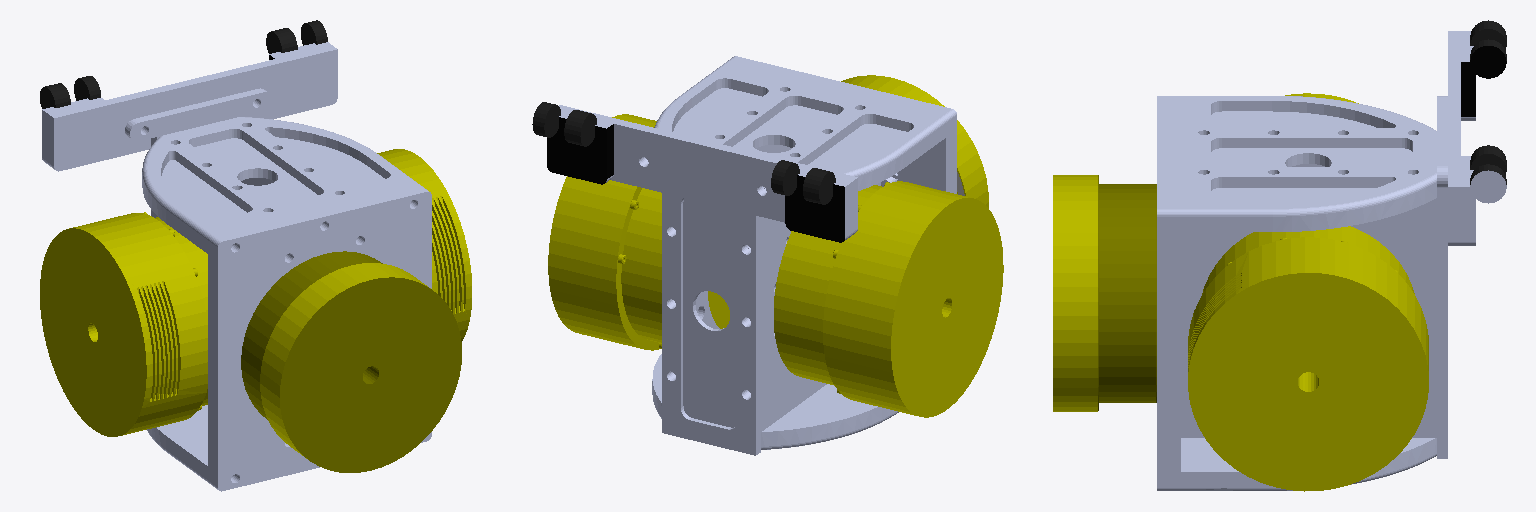
The robot description file, URDF, robot "Krang":
<?xml version="1.0" ?>
<!-- @file Krang.urdf -->
<!-- @author [author] -->
<!-- @date May 10, 2013 -->
<!-- @brief This file contains the .urdf definition for Krang. -->
<!-- NOTE: The center of mass locations are taken from the MassTable by summing up the -->
<!-- individual part values for the sections (which correspond to nodes here). -->
<!-- TODO: Set the center of mass locations -->
<!-- TODO: Set the correct masses. Note that the dae models have the brackets divided in two and -->
<!-- connected to the middle motor for which we do not have measurements. -->
<!-- NOTE: The bounding box values are taken by finding the min and max values of the dae files. -->

<robot name="Krang">

	<!-- Links -->

	<link name = "LWheel"> 
    <inertial>
      <mass value="4.66"/>
      <inertia ixx="0.102019" ixy="2.45462e-05" ixz="0.00713022" iyy="0.0832724" iyz="-0.00131733" izz="0.086493"/>
      <origin xyz="0 0 0"/>
    </inertial>
		<visual> <origin xyz="0 0 -0.026"/> <geometry> <mesh filename="../model/wheel.dae"/> </geometry> </visual>
		<collision> <origin xyz="-0.002 0 0" rpy="0 1.5708 0"/> <geometry> <cylinder length="0.077" radius="0.268"/> </geometry> </collision> 
	</link>

	<link name = "RWheel"> 
    <inertial>
      <mass value="4.66"/>
      <inertia ixx="0.102019" ixy="2.45462e-05" ixz="0.00713022" iyy="0.0832724" iyz="-0.00131733" izz="0.086493"/>
      <origin xyz="0 0 0"/>
    </inertial>
		<visual> <origin xyz="0 0 -0.026"/> <geometry> <mesh filename="../model/wheel.dae"/> </geometry> </visual>
		<collision> <origin xyz="-0.002 0 0" rpy="0 1.5708 0"/> <geometry> <cylinder length="0.077" radius="0.268"/> </geometry> </collision> 
	</link>

	<link name = "Base"> 
    <inertial>
      <mass value="81.856"/>
      <inertia ixx="0.102019" ixy="2.45462e-05" ixz="0.00713022" iyy="0.0832724" iyz="-0.00131733" izz="0.086493"/>
      <origin xyz="-0.00336451 0.107572 -0.00636184"/>
    </inertial>
		<visual> <geometry> <mesh filename="base.dae" /> </geometry> </visual> 
		<collision> <origin xyz="0.0 0.183 0.0063"/> <geometry> <box size="0.620 0.66 0.329"/> </geometry> </collision> 
	</link>

	<link name = "Spine"> 
    <inertial>
      <mass value="10.302"/>
      <inertia ixx="0.102019" ixy="2.45462e-05" ixz="0.00713022" iyy="0.0832724" iyz="-0.00131733" izz="0.086493"/>
			<!-- an offset of -0.02937 is added due to bad dae file and to align with base com -->
      <origin xyz="-0.02937 0.285314 0.0974926"/>
    </inertial>
		<visual> <geometry> <mesh filename="spine.dae" /> </geometry> </visual> 
		<collision> <origin xyz="-0.028 0.230 0.108"/> <geometry> <box size="0.134 0.60 0.133"/> </geometry> </collision> 
		<collision> <origin xyz="-0.026 0.012 0"/> <geometry> <box size="0.435 0.16 0.135"/> </geometry> </collision> 
	</link>

	<link name = "Bracket"> 
    <inertial>
      <mass value="10.17"/>
      <inertia ixx="0.102019" ixy="2.45462e-05" ixz="0.00713022" iyy="0.0832724" iyz="-0.00131733" izz="0.086493"/>
			<!-- offseted with 0.0827 because the origin of the bracket is at the bottom -->
      <origin xyz="0 0.080606 -0.00314267"/>
    </inertial>
		<visual> <geometry> <mesh filename="bracket.dae" /> </geometry> </visual> 
		<collision> <origin xyz="0.0012875 0.0582 -0.0280530"/> <geometry> <box size="0.2815 0.23 0.22611"/> </geometry> </collision> 
	</link>

	<link name = "Kinect"> 
    <inertial>
      <mass value="0.705"/>
      <inertia ixx="0.102019" ixy="2.45462e-05" ixz="0.00713022" iyy="0.0832724" iyz="-0.00131733" izz="0.086493"/>
      <origin xyz="0.0 -0.04 -0.028"/>
    </inertial>
		<visual> <geometry> <mesh filename="kinect.dae" /> </geometry> </visual> 
		<collision> <origin xyz="0.0 -0.0251 -0.0185"/> <geometry> <box size="0.28 0.07 0.063"/> </geometry> </collision> 
	</link>

	<link name = "L1"> 
    <inertial>
      <mass value="3.836"/>
      <inertia ixx="0.102019" ixy="2.45462e-05" ixz="0.00713022" iyy="0.0832724" iyz="-0.00131733" izz="0.086493"/>
      <origin xyz="0.0063626 -0.00725706 0"/>
    </inertial>
		<visual> <geometry> <mesh filename="Schunk/L1.dae" /> </geometry> </visual> 
		<collision> <origin xyz="0.015 -0.080866 0.0"/> <geometry> <box size="0.16 0.29367 0.13188"/> </geometry> </collision> 
	</link>

	<link name = "L2"> 
    <inertial>
      <mass value="2.385"/>
      <inertia ixx="0.102019" ixy="2.45462e-05" ixz="0.00713022" iyy="0.0832724" iyz="-0.00131733" izz="0.086493"/>
      <origin xyz="0.0101136 -0.15332 0"/>
    </inertial>
		<visual> <geometry> <mesh filename="Schunk/L2.dae" /> </geometry> </visual> 
		<collision> <origin xyz="0.017042 -0.058309 0.0"/> <geometry> <box size="0.14591 0.24658 0.13"/> </geometry> </collision> 
	</link>

	<link name = "L3"> 
    <inertial>
      <mass value="2.306"/>
      <inertia ixx="0.102019" ixy="2.45462e-05" ixz="0.00713022" iyy="0.0832724" iyz="-0.00131733" izz="0.086493"/>
      <origin xyz="0.0071222 -0.00803823 0"/>
    </inertial>
		<visual> <geometry> <mesh filename="Schunk/L3.dae" /> </geometry> </visual> 
		<collision> <origin xyz="0.014000 -0.075113 0.0"/> <geometry> <box size="0.13800 0.26217 0.11189"/> </geometry> </collision> 
	</link>

	<link name = "L4"> 
    <inertial>
      <mass value="1.477"/>
      <inertia ixx="0.102019" ixy="2.45462e-05" ixz="0.00713022" iyy="0.0832724" iyz="-0.00131733" izz="0.086493"/>
      <origin xyz="0.0115211 -0.1255 0"/>
    </inertial>
		<visual> <geometry> <mesh filename="Schunk/L4.dae" /> </geometry> </visual> 
		<collision> <origin xyz="0.018200 -0.052050 0.0"/> <geometry> <box size="0.12960 0.2141 0.11"/> </geometry> </collision> 
	</link>

	<link name = "L5"> 
    <inertial>
      <mass value="1.369"/>
      <inertia ixx="0.102019" ixy="2.45462e-05" ixz="0.00713022" iyy="0.0832724" iyz="-0.00131733" izz="0.086493"/>
      <origin xyz="0.00705037 -0.00747172 0"/>
    </inertial>
		<visual> <geometry> <mesh filename="Schunk/L5.dae" /> </geometry> </visual> 
		<collision> <origin xyz="0.0145115 -0.0571105 0.0000425"/> <geometry> <box size="0.117977 0.204179 0.089915"/> </geometry> </collision> 
	</link>

	<link name = "L6"> 
    <inertial>
      <mass value="1.47"/>
      <inertia ixx="0.102019" ixy="2.45462e-05" ixz="0.00713022" iyy="0.0832724" iyz="-0.00131733" izz="0.086493"/>
      <origin xyz="0.0105523 -0.117163 0"/>
    </inertial>
		<visual> <geometry> <mesh filename="Schunk/L6.dae" /> </geometry> </visual> 
		<collision> <origin xyz="0.0175015 -0.0481615 0.0"/> <geometry> <box size="0.111977 0.185277 0.089"/> </geometry> </collision> 
	</link>

	<link name = "lGripper"> 
    <inertial>
      <mass value="2.3"/>
      <inertia ixx="0.102019" ixy="2.45462e-05" ixz="0.00713022" iyy="0.0832724" iyz="-0.00131733" izz="0.086493"/>
			<!-- An addition of 4.05 cms from the end of Schunk gripper to space between two halves of ft -->
      <origin xyz="0 0 0.1055"/>
    </inertial>
		<visual> <geometry> <mesh filename="Schunk/L7.dae" /> </geometry> </visual> 
		<collision> <origin xyz="0.0 -0.0 0.02615" rpy="0.0 0.0 1.5708"/> <geometry> <box size="0.08 0.112 0.2025"/> </geometry> </collision> 
	</link>

	<link name = "lFingerA">
    <inertial> 
			<mass value="0.0001"/> 
			<inertia ixx="1e-4" ixy="1e-4" ixz="1e-4" iyy="1e-4" iyz="1e-4" izz="1e-4"/>
		</inertial>
		<visual> <geometry> <mesh filename="Schunk/finger.dae" /> </geometry> </visual>
	</link> 	

	<link name = "lFingerB">
    <inertial> 
			<mass value="0.0001"/> 
			<inertia ixx="1e-4" ixy="1e-4" ixz="1e-4" iyy="1e-4" iyz="1e-4" izz="1e-4"/>
		</inertial>
		<visual> <geometry> <mesh filename="Schunk/finger.dae" /> </geometry> </visual>
	</link> 	

	<link name = "lFingerC">
    <inertial> 
			<mass value="0.0001"/> 
			<inertia ixx="1e-4" ixy="1e-4" ixz="1e-4" iyy="1e-4" iyz="1e-4" izz="1e-4"/>
		</inertial>
		<visual> <geometry> <mesh filename="Schunk/finger.dae" /> </geometry> </visual>
	</link> 	

	<link name = "R1"> 
    <inertial>
      <mass value="3.836"/>
      <inertia ixx="0.102019" ixy="2.45462e-05" ixz="0.00713022" iyy="0.0832724" iyz="-0.00131733" izz="0.086493"/>
      <origin xyz="0.0063626 -0.00725706 0"/>
    </inertial>
		<visual> <geometry> <mesh filename="Schunk/L1.dae" /> </geometry> </visual> 
		<collision> <origin xyz="0.015 -0.080866 0.0"/> <geometry> <box size="0.16 0.29367 0.13188"/> </geometry> </collision> 
	</link>

	<link name = "R2"> 
    <inertial>
      <mass value="2.385"/>
      <inertia ixx="0.102019" ixy="2.45462e-05" ixz="0.00713022" iyy="0.0832724" iyz="-0.00131733" izz="0.086493"/>
      <origin xyz="0.0101136 -0.15332 0"/>
    </inertial>
		<visual> <geometry> <mesh filename="Schunk/L2.dae" /> </geometry> </visual> 
		<collision> <origin xyz="0.017042 -0.058309 0.0"/> <geometry> <box size="0.14591 0.24658 0.13"/> </geometry> </collision> 
	</link>

	<link name = "R3"> 
    <inertial>
      <mass value="2.306"/>
      <inertia ixx="0.102019" ixy="2.45462e-05" ixz="0.00713022" iyy="0.0832724" iyz="-0.00131733" izz="0.086493"/>
      <origin xyz="0.0071222 -0.00803823 0"/>
    </inertial>
		<visual> <geometry> <mesh filename="Schunk/L3.dae" /> </geometry> </visual> 
		<collision> <origin xyz="0.014000 -0.075113 0.0"/> <geometry> <box size="0.13800 0.26217 0.11189"/> </geometry> </collision> 
	</link>

	<link name = "R4"> 
    <inertial>
      <mass value="1.477"/>
      <inertia ixx="0.102019" ixy="2.45462e-05" ixz="0.00713022" iyy="0.0832724" iyz="-0.00131733" izz="0.086493"/>
      <origin xyz="0.0115211 -0.1255 0"/>
    </inertial>
		<visual> <geometry> <mesh filename="Schunk/L4.dae" /> </geometry> </visual> 
		<collision> <origin xyz="0.018200 -0.052050 0.0"/> <geometry> <box size="0.12960 0.2141 0.11"/> </geometry> </collision> 
	</link>

	<link name = "R5"> 
    <inertial>
      <mass value="1.369"/>
      <inertia ixx="0.102019" ixy="2.45462e-05" ixz="0.00713022" iyy="0.0832724" iyz="-0.00131733" izz="0.086493"/>
      <origin xyz="0.00705037 -0.00747172 0"/>
    </inertial>
		<visual> <geometry> <mesh filename="Schunk/L5.dae" /> </geometry> </visual> 
		<collision> <origin xyz="0.0145115 -0.0571105 0.0000425"/> <geometry> <box size="0.117977 0.204179 0.089915"/> </geometry> </collision> 
	</link>

	<link name = "R6"> 
    <inertial>
      <mass value="1.47"/>
      <inertia ixx="0.102019" ixy="2.45462e-05" ixz="0.00713022" iyy="0.0832724" iyz="-0.00131733" izz="0.086493"/>
      <origin xyz="0.0105523 -0.117163 0"/>
    </inertial>
		<visual> <geometry> <mesh filename="Schunk/L6.dae" /> </geometry> </visual> 
		<collision> <origin xyz="0.0175015 -0.0481615 0.0"/> <geometry> <box size="0.111977 0.185277 0.089"/> </geometry> </collision> 
	</link>

	<link name = "rGripper"> 
    <inertial>
      <mass value="2.3"/>
      <inertia ixx="0.102019" ixy="2.45462e-05" ixz="0.00713022" iyy="0.0832724" iyz="-0.00131733" izz="0.086493"/>
			<!-- An addition of 4.05 cms from the end of Schunk gripper to space between two halves of ft -->
      <origin xyz="0 0 0.1055"/>
    </inertial>
		<visual> <geometry> <mesh filename="Schunk/L7.dae" /> </geometry> </visual> 
		<collision> <origin xyz="0.0 -0.0 0.02615" rpy="0.0 0.0 1.5708"/> <geometry> <box size="0.08 0.112 0.2025"/> </geometry> </collision> 
	</link>

	<link name = "rFingerA">
    <inertial> 
			<mass value="0.0001"/> 
			<inertia ixx="1e-4" ixy="1e-4" ixz="1e-4" iyy="1e-4" iyz="1e-4" izz="1e-4"/>
		</inertial>
		<visual> <geometry> <mesh filename="Schunk/finger.dae" /> </geometry> </visual>
	</link> 	

	<link name = "rFingerB">
    <inertial> 
			<mass value="0.0001"/> 
			<inertia ixx="1e-4" ixy="1e-4" ixz="1e-4" iyy="1e-4" iyz="1e-4" izz="1e-4"/>
		</inertial>
		<visual> <geometry> <mesh filename="Schunk/finger.dae" /> </geometry> </visual>
	</link> 	

	<link name = "rFingerC">
    <inertial> 
			<mass value="0.0001"/> 
			<inertia ixx="1e-4" ixy="1e-4" ixz="1e-4" iyy="1e-4" iyz="1e-4" izz="1e-4"/>
		</inertial>
		<visual> <geometry> <mesh filename="Schunk/finger.dae" /> </geometry> </visual>
	</link> 	


	<!-- ======================================================================================================== -->
	<!-- ============================================ Joints ==================================================== -->
	<!-- ======================================================================================================== -->

	<joint name="JLWheel" type="revolute"> <parent link="Base" /> <child link="LWheel" />
		<origin xyz = "-0.354 0.0 0" rpy="0 0 0" />
		<axis xyz="1 0 0" /> <limit effort="1000" lower="-3.1416" upper="3.1416" velocity="0.1" />
	</joint>

	<joint name="JRWheel" type="revolute"> <parent link="Base" /> <child link="RWheel" />
		<origin xyz = "0.361 0.0 0" rpy="0 0 0" />
		<axis xyz="1 0 0" /> <limit effort="1000" lower="-3.1416" upper="3.1416" velocity="0.1" />
	</joint>

	<joint name="JWaist" type="revolute"> <parent link="Base" /> <child link="Spine" />
		<origin xyz = "0.026 0.499 -0.091" rpy="0 0 0" />
		<axis xyz="-1 0 0" /> <limit effort="1000" lower="0" upper="2.7" velocity="0.1" />
	</joint>

	<joint name="JTorso" type="revolute"> <parent link="Spine" /> <child link="Bracket" />
		<origin xyz = "-0.0285 0.584 0.1088" rpy="0 3.1416 0" /> 
		<axis xyz="0 -1 0" /> <limit effort="1000" lower="-0.8" upper="0.8" velocity="0.1" />
	</joint>

	<joint name="JKinect" type="revolute"> <parent link="Bracket" /> <child link="Kinect" />
		<origin xyz = "-0.001 0.1805 -0.1120" rpy="3.1416 0 0" />
		<axis xyz="1 0 0" /> <limit effort="1000" lower="-3.1416" upper="3.1416" velocity="0.1" />
	</joint>

	<joint name="LJ1" type="revolute"> <parent link="Bracket" /> <child link="L1" />
		<origin xyz = "0.2823 0.0845 0" rpy="0 3.1416 -1.5708" />
		<axis xyz="0 -1 0" /> <limit effort="1000" lower="-3.1416" upper="3.1416" velocity="0.1" />
	</joint>

	<joint name="LJ2" type="revolute"> <parent link="L1" /> <child link="L2" />
		<origin xyz="0 0.0 0" rpy="3.14 3.14 0" />
		<axis xyz="-1 0 0" /> <limit effort="1000" lower="-2.094" upper="2.094" velocity="0.1" />
	</joint>

	<joint name="LJ3" type="revolute"> <parent link="L2" /> <child link="L3" />
		<origin xyz="0 -0.328 0" rpy="-3.1416 -3.1416 0" />
		<axis xyz="0 -1 0" /> <limit effort="1000" lower="-4.7124" upper="4.7124" velocity="0.1" />
	</joint>

	<joint name="LJ4" type="revolute"> <parent link="L3" /> <child link="L4" />
		<origin xyz="0 0 0" rpy="3.1416 3.1416 0" />
		<axis xyz="-1 0 0" /> <limit effort="1000" lower="-2.094" upper="2.094" velocity="0.1" />
	</joint>

	<joint name="LJ5" type="revolute"> <parent link="L4" /> <child link="L5" />
		<origin xyz="0 -0.2765 0" rpy="3.1416 3.1416 0" />
		<axis xyz="0 -1 0" /> <limit effort="1000" lower="-4.7124" upper="4.7124" velocity="0.1" />
	</joint>

	<joint name="LJ6" type="revolute"> <parent link="L5" /> <child link="L6" />
		<origin xyz="0 0.0 0" rpy="3.1416 3.1416 0" />
		<axis xyz="-1 0 0" /> <limit effort="1000" lower="-2.094" upper="2.094" velocity="0.1" />
	</joint>

	<!-- For some reason, I had to negate the axis to make sure the motor turns like the others -->
	<joint name="LJFT" type="revolute"> <parent link="L6" /> <child link="lGripper" />
		<origin xyz="0 -0.200 0" rpy="1.5708 4.7124 0" />
		<axis xyz="0 0 -1" /> <limit effort="1000" lower="-4.7124" upper="4.7124" velocity="0.1" />
	</joint>

	<joint name="LJFA" type="revolute"> <parent link="lGripper" /> <child link="lFingerA" />
		<origin xyz="0.004 0.040 0.127" rpy="3.1416 1.0 1.5708" />
		<axis xyz="0 -1 0" /> <limit effort="1000" lower="0.0" upper="1.9" velocity="0.1" />
	</joint>

	<joint name="LJFB" type="revolute"> <parent link="lGripper" /> <child link="lFingerB" />
		<origin xyz="0.030 -0.040 0.127" rpy="0 2.3 1.5708" />
		<axis xyz="0 -1 0" /> <limit effort="1000" lower="0.0" upper="1.9" velocity="0.1" />
	</joint>

	<joint name="LJFC" type="revolute"> <parent link="lGripper" /> <child link="lFingerC" />
		<origin xyz="-0.035 -0.040 0.127" rpy="0 2.3 1.5708" />
		<axis xyz="0 -1 0" /> <limit effort="1000" lower="0.0" upper="1.9" velocity="0.1" />
	</joint>

	<!-- Right arm -->

	<joint name="RJ1" type="revolute"> <parent link="Bracket" /> <child link="R1" />
		<origin xyz = "-0.2823 0.0845 0" rpy="0 0 1.5708" />
		<axis xyz="0 -1 0" /> <limit effort="1000" lower="-4.7124" upper="4.7124" velocity="0.1" />
	</joint>

	<joint name="RJ2" type="revolute"> <parent link="R1" /> <child link="R2" />
		<origin xyz="0 0.0 0" rpy="3.14 3.14 0" />
		<axis xyz="-1 0 0" /> <limit effort="1000" lower="-2.094" upper="2.094" velocity="0.1" />
	</joint>

	<joint name="RJ3" type="revolute"> <parent link="R2" /> <child link="R3" />
		<origin xyz="0 -0.328 0" rpy="-3.1416 -3.1416 0" />
		<axis xyz="0 -1 0" /> <limit effort="1000" lower="-4.7124" upper="4.7124" velocity="0.1" />
	</joint>

	<joint name="RJ4" type="revolute"> <parent link="R3" /> <child link="R4" />
		<origin xyz="0 0 0" rpy="3.1416 3.1416 0" />
		<axis xyz="-1 0 0" /> <limit effort="1000" lower="-2.094" upper="2.094" velocity="0.1" />
	</joint>

	<joint name="RJ5" type="revolute"> <parent link="R4" /> <child link="R5" />
		<origin xyz="0 -0.2765 0" rpy="3.1416 3.1416 0" />
		<axis xyz="0 -1 0" /> <limit effort="1000" lower="-4.7124" upper="4.7124" velocity="0.1" />
	</joint>

	<joint name="RJ6" type="revolute"> <parent link="R5" /> <child link="R6" />
		<origin xyz="0 0.0 0" rpy="3.1416 3.1416 0" />
		<axis xyz="-1 0 0" /> <limit effort="1000" lower="-2.094" upper="2.094" velocity="0.1" />
	</joint>

	<joint name="RJFT" type="revolute"> <parent link="R6" /> <child link="rGripper" />
		<origin xyz="0 -0.200 0" rpy="1.5708 4.7124 0" />
		<axis xyz="0 0 -1" /> <limit effort="1000" lower="-4.7124" upper="4.7124" velocity="0.1" />
	</joint>

	<joint name="RJFA" type="revolute"> <parent link="rGripper" /> <child link="rFingerA" />
		<origin xyz="0.004 0.040 0.127" rpy="3.1416 1.0 1.5708" />
		<axis xyz="0 -1 0" /> <limit effort="1000" lower="0.0" upper="1.9" velocity="0.1" />
	</joint>

	<joint name="RJFB" type="revolute"> <parent link="rGripper" /> <child link="rFingerB" />
		<origin xyz="0.030 -0.040 0.127" rpy="0 2.30 1.5708" />
		<axis xyz="0 -1 0" /> <limit effort="1000" lower="0.0" upper="1.9" velocity="0.1" />
	</joint>

	<joint name="RJFC" type="revolute"> <parent link="rGripper" /> <child link="rFingerC" />
		<origin xyz="-0.035 -0.040 0.127" rpy="0 2.30 1.5708" />
		<axis xyz="0 -1 0" /> <limit effort="1000" lower="0.0" upper="1.9" velocity="0.1" />
	</joint>


</robot>

--- Facts derived from the render (not from the file) ---
3 views of the same robot in one strip: view 1: azimuth 30°, elevation 25°; view 2: azimuth 150°, elevation 25°; view 3: azimuth 270°, elevation 25° (orthographic).
Model Krang with 26 links and 25 joints (25 revolute), rooted at Base, posed all joints at 0.
Visible links, largest first — view 1: Bracket; view 2: Bracket; view 3: Bracket.
Boxes of the visible links, left/top/right/bottom form: Bracket: left=40, top=20, right=471, bottom=491; Bracket: left=532, top=56, right=1003, bottom=455; Bracket: left=1053, top=20, right=1506, bottom=491.
Size in the robot's own frame: 0.2322 by 0.248 by 0.2063 metres.
Meshes: 13 distinct files referenced, 1 mesh visuals loaded (1 Collada DAE); not drawn: 25 (reference not matched to a file when rendering).